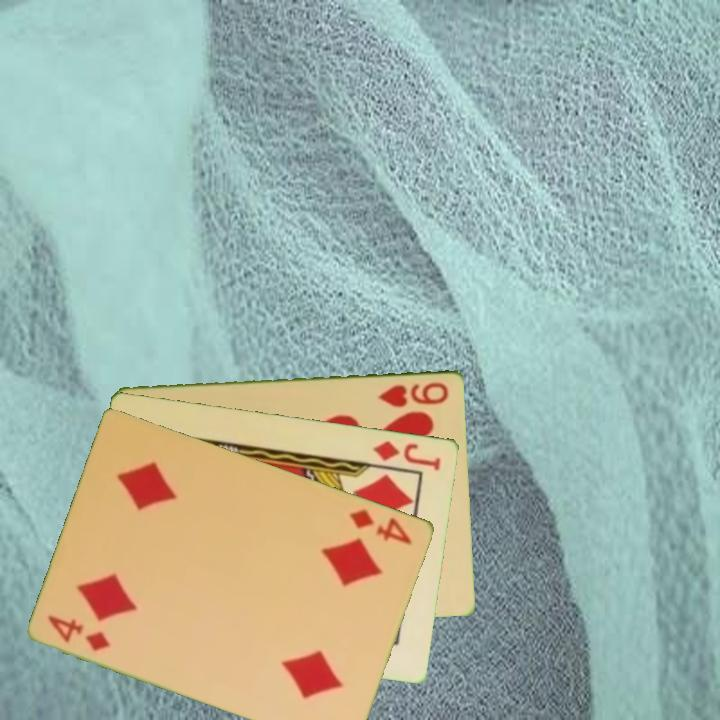4d: (44, 612, 114, 655), (346, 505, 415, 548)
9h: (375, 378, 452, 410)
Jd: (370, 436, 444, 473)
